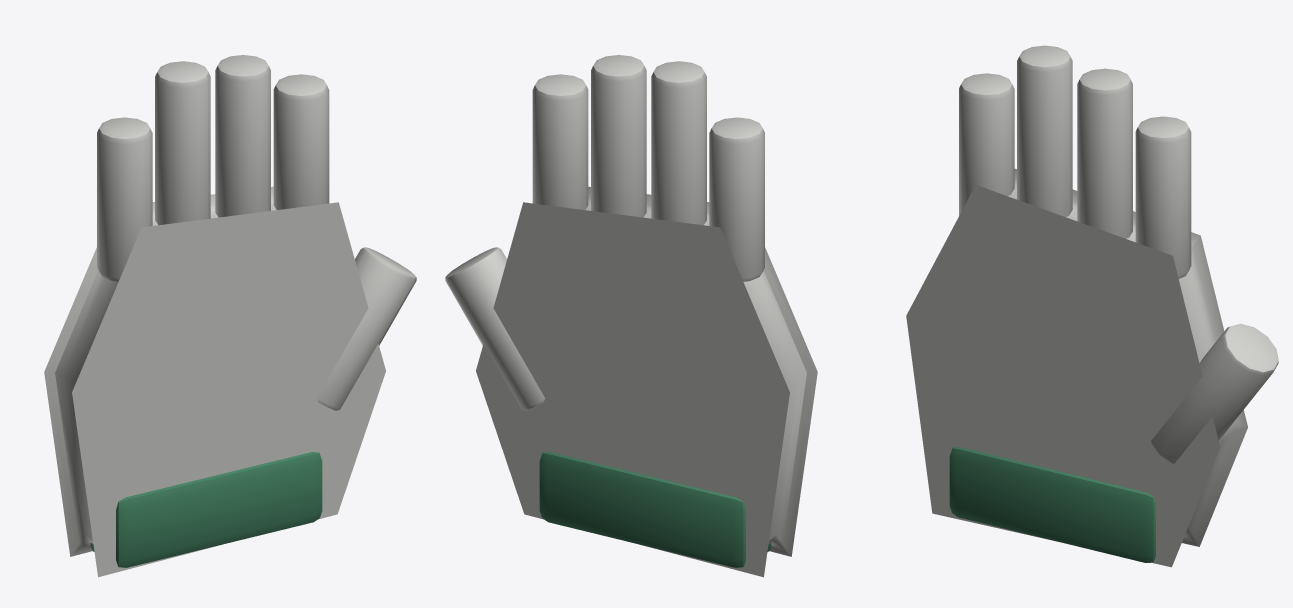
Rendered from checkout_product_glove.glb.
3 views of the same model, side by side, from view 1: azimuth 30°, elevation 25°; view 2: azimuth 150°, elevation 25°; view 3: azimuth 330°, elevation 25° (orthographic).
Visible parts, largest first — view 1: GlovePalm, GloveCuff, GloveFinger_2, GloveFinger_3, GloveFinger_1, GloveFinger_4, GloveThumb; view 2: GlovePalm, GloveCuff, GloveFinger_2, GloveFinger_3, GloveFinger_1, GloveFinger_4, GloveThumb; view 3: GlovePalm, GloveCuff, GloveFinger_2, GloveFinger_3, GloveThumb, GloveFinger_4, GloveFinger_1.
Boxes of the visible parts, bbox=[...] form: GlovePalm: bbox=[44, 186, 385, 577]; GloveCuff: bbox=[90, 452, 322, 567]; GloveFinger_2: bbox=[155, 61, 210, 225]; GloveFinger_3: bbox=[215, 55, 270, 217]; GloveFinger_1: bbox=[97, 117, 152, 281]; GloveFinger_4: bbox=[273, 74, 329, 209]; GloveThumb: bbox=[317, 247, 416, 410]; GlovePalm: bbox=[476, 186, 817, 577]; GloveCuff: bbox=[539, 452, 771, 567]; GloveFinger_2: bbox=[651, 61, 706, 225]; GloveFinger_3: bbox=[591, 55, 646, 217]; GloveFinger_1: bbox=[709, 117, 764, 281]; GloveFinger_4: bbox=[532, 74, 588, 209]; GloveThumb: bbox=[445, 247, 544, 410]; GlovePalm: bbox=[906, 168, 1247, 567]; GloveCuff: bbox=[949, 447, 1155, 562]; GloveFinger_2: bbox=[1017, 45, 1072, 216]; GloveFinger_3: bbox=[1077, 68, 1132, 238]; GloveThumb: bbox=[1151, 323, 1278, 463]; GloveFinger_4: bbox=[1135, 116, 1191, 278]; GloveFinger_1: bbox=[959, 73, 1014, 215].
Size of the model in its own units: 0.1881 by 0.2251 by 0.035.
